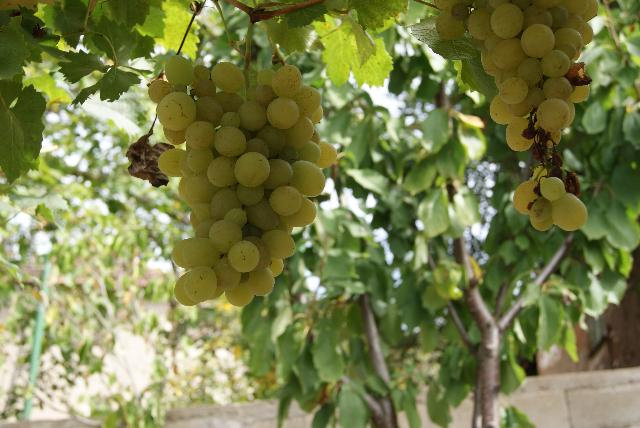grapes: (149, 55, 338, 306), (435, 0, 599, 231)
